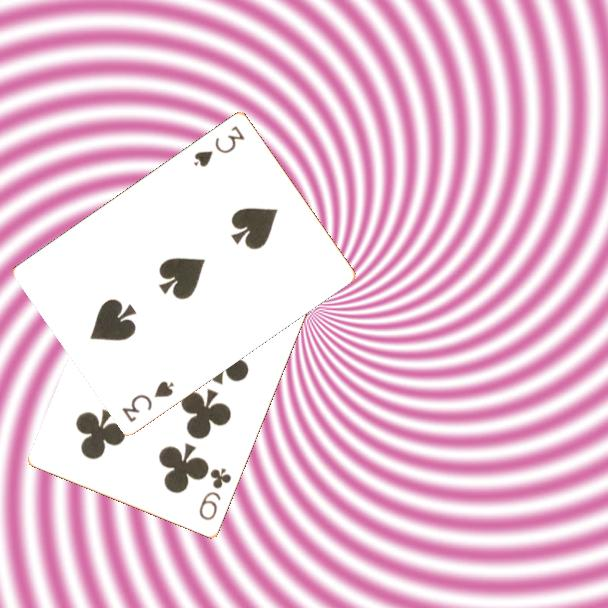c09: (195, 464, 235, 524)
s03: (190, 121, 248, 170), (118, 377, 177, 425)
